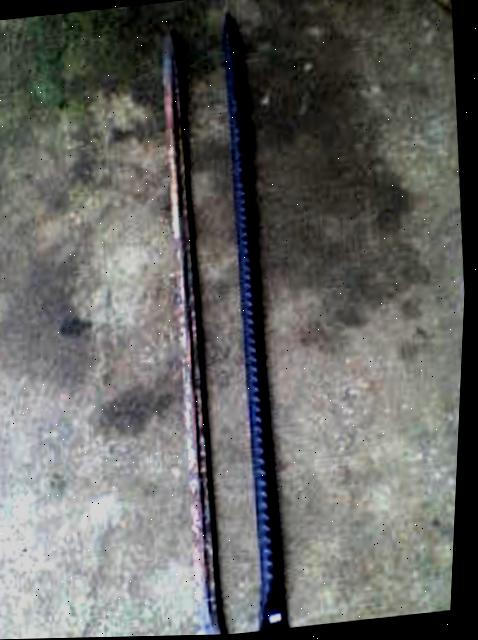crow bar: (117, 0, 266, 638), (196, 2, 328, 634)
